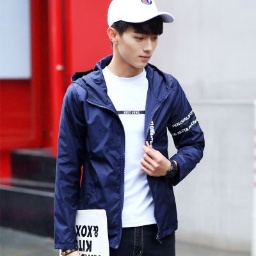face: (109, 16, 163, 71)
